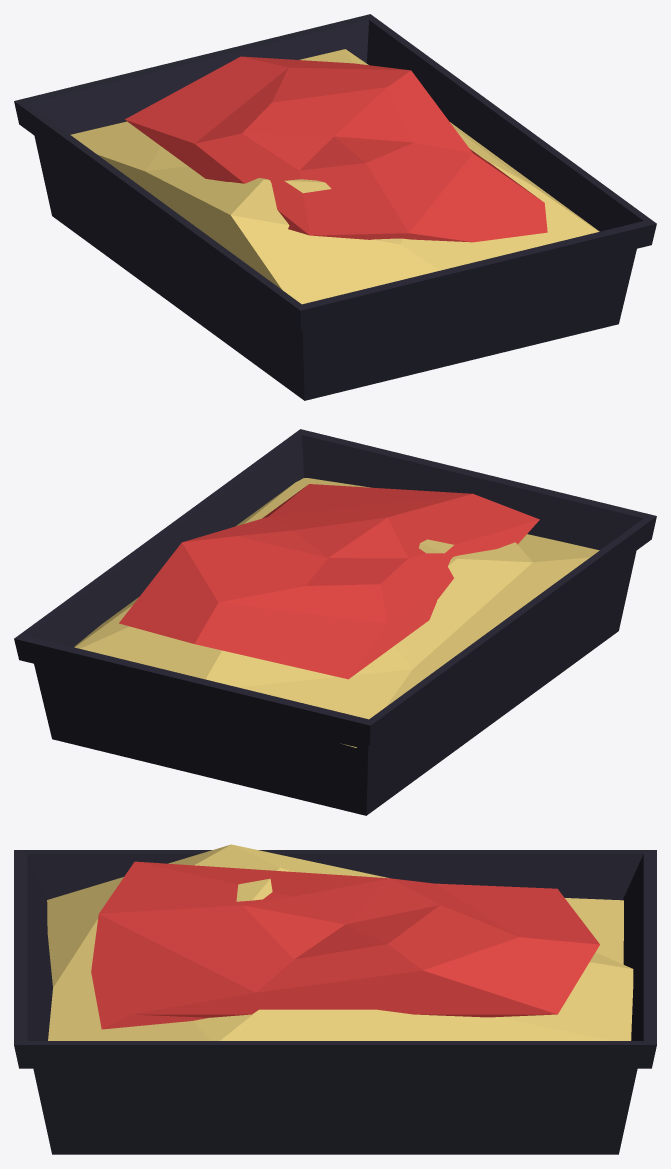
The model's file is Spaghetti.fbx.
The picture shows the model from 3 angles, top to bottom: view 1: azimuth 30°, elevation 25°; view 2: azimuth 150°, elevation 25°; view 3: azimuth 270°, elevation 25°; orthographic projection. The views are drawn at different scales.
Parts seen in each view (by area): view 1: Spaghetti; view 2: Spaghetti; view 3: Spaghetti.
Part boxes in pixels (<box>): Spaghetti: <box>14,14,656,400</box>; Spaghetti: <box>14,429,656,815</box>; Spaghetti: <box>14,844,656,1154</box>.
Size of the model in its own units: 95.05 by 132 by 37.62.
